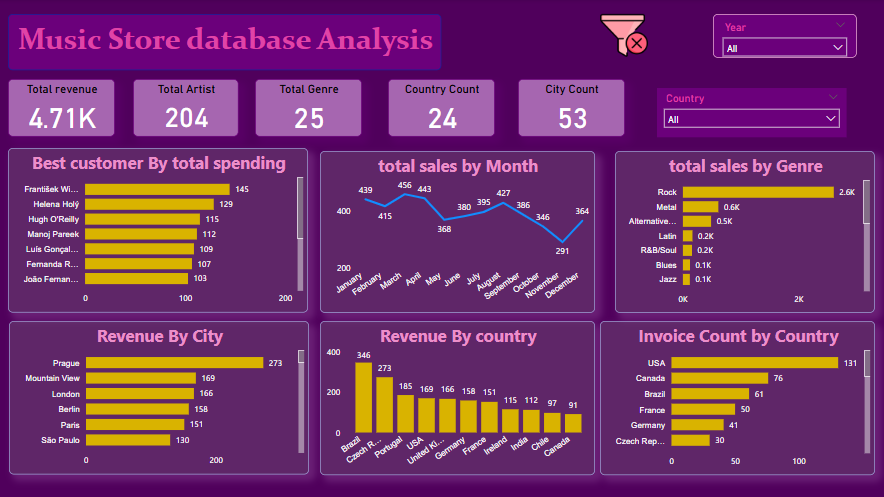

The dashboard page shown, as its layout file describes it:
{"tool":"powerbi","page":{"name":"overview 1","canvas":[1280,720],"ordinal":0},"visuals":[{"type":"clusteredBarChart","title":"Revenue By City","fields":{"Category":["invoice.billing_city"],"Y":["invoice_line.total sales"]},"box":[16.9,464.4,432.3,221.2],"z":0},{"type":"lineStackedColumnComboChart","title":"Revenue By country","fields":{"Y":["invoice_line.total sales"],"Category":["invoice.billing_country"]},"box":[465.3,463.6,396.4,221.7],"z":1000},{"type":"slicer","fields":{"Values":["invoice.billing_country"]},"box":[950.5,127.5,273.2,71.2],"z":2000},{"type":"card","title":"Total revenue","fields":{"Values":["invoice_line.total sales"]},"box":[16.6,115.9,154,82.8],"z":3000},{"type":"clusteredBarChart","title":" Invoice Count by Country","fields":{"Category":["invoice.billing_country"],"Y":["invoice.Count Of Invoice"]},"box":[868.5,463.6,396.4,221.7],"z":4000},{"type":"slicer","fields":{"Values":["invoice.invoice_date.Variation.Date Hierarchy.Year"]},"box":[1031.6,21.5,207,62.9],"z":5000},{"type":"textbox","box":[16.6,21.5,624.3,81.1],"z":6000},{"type":"card","title":"Total Artist","fields":{"Values":["Count(album2.artist_id)"]},"box":[195.4,115.9,152.3,82.8],"z":7000},{"type":"clusteredBarChart","title":"Best customer By total spending","fields":{"Y":["Sum(invoice.total)"],"Category":["customer.Full_name"]},"box":[16.6,215.3,432.2,236.8],"z":8000},{"type":"lineChart","fields":{"Y":["invoice_line.total sales"],"Category":["invoice.invoice_date.Variation.Date Hierarchy.Month"]},"box":[465.3,218.6,395.8,233.5],"z":9000},{"type":"clusteredBarChart","fields":{"Category":["genre.name"],"Y":["invoice_line.total sales"]},"box":[889.2,218.6,374.2,233.5],"z":11000},{"type":"card","title":"Total Genre","fields":{"Values":["CountNonNull(genre.genre_id)"]},"box":[370.9,115.9,154,82.8],"z":11002},{"type":"card","title":"Country Count","fields":{"Values":["Count(invoice.billing_country)"]},"box":[563,115.9,154,82.8],"z":11003},{"type":"card","title":"City Count","fields":{"Values":["Count(invoice.billing_city)"]},"box":[750.1,115.9,154,82.8],"z":11004},{"type":"image","box":[829.6,13.2,147.4,79.5],"z":11005}]}

Visuals, with their boxes in screenshot pixels (x1, y1, x2, y2), scaled from the page's 1280x720 canvas onto the 884x497 screenshot:
"Revenue By City" clusteredBarChart: bbox(12, 321, 310, 473)
"Revenue By country" lineStackedColumnComboChart: bbox(321, 320, 595, 473)
slicer - invoice.billing_country: bbox(656, 88, 845, 137)
"Total revenue" card: bbox(11, 80, 118, 137)
" Invoice Count by Country" clusteredBarChart: bbox(600, 320, 874, 473)
slicer - invoice.invoice_date.Variation.Date Hierarchy.Year: bbox(712, 15, 855, 58)
textbox: bbox(11, 15, 443, 71)
"Total Artist" card: bbox(135, 80, 240, 137)
"Best customer By total spending" clusteredBarChart: bbox(11, 149, 310, 312)
lineChart - invoice_line.total sales x invoice.invoice_date.Variation.Date Hierarchy.Month: bbox(321, 151, 595, 312)
clusteredBarChart - genre.name x invoice_line.total sales: bbox(614, 151, 873, 312)
"Total Genre" card: bbox(256, 80, 363, 137)
"Country Count" card: bbox(389, 80, 495, 137)
"City Count" card: bbox(518, 80, 624, 137)
image: bbox(573, 9, 675, 64)
